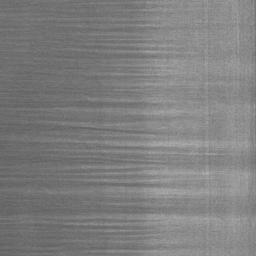Waist folding: (17, 0, 256, 229), (37, 218, 233, 256), (73, 12, 103, 25), (70, 0, 103, 9), (0, 198, 16, 216), (234, 109, 246, 128), (46, 232, 64, 240), (34, 224, 53, 231)
